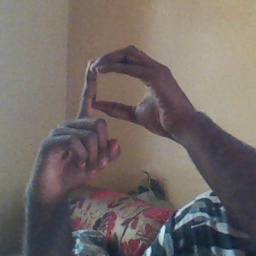P: (40, 42, 174, 183)
